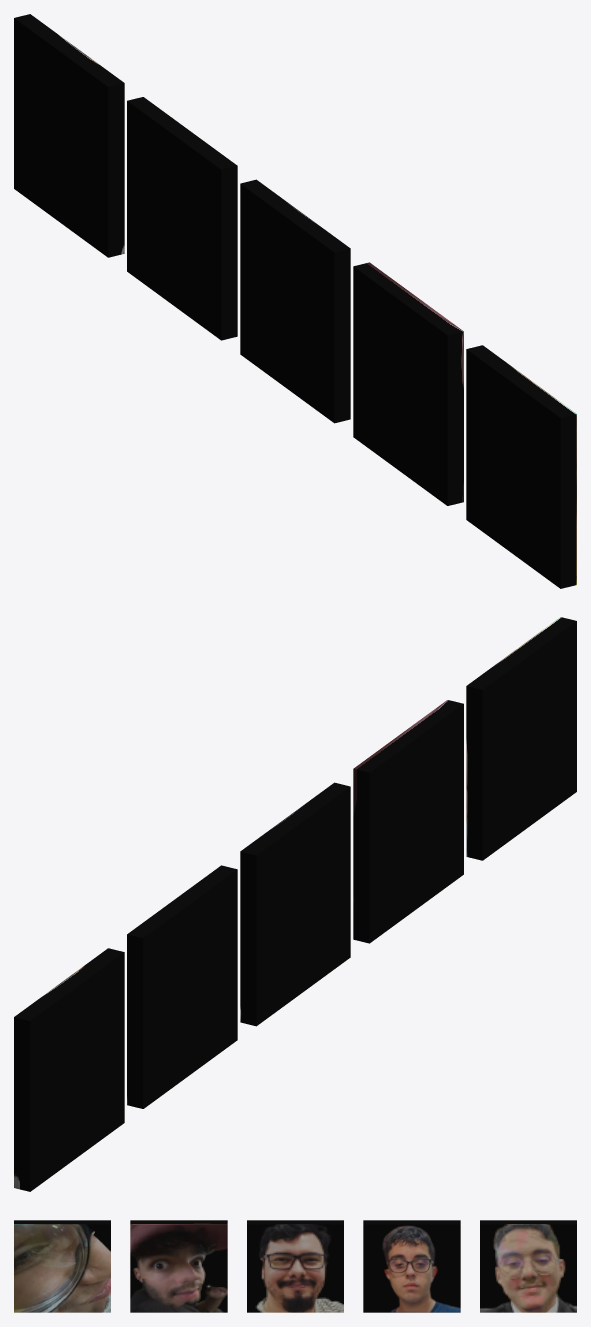
File: quadros.fbx
3 renders of one model, top to bottom at view 1: azimuth 30°, elevation 25°; view 2: azimuth 150°, elevation 25°; view 3: azimuth 270°, elevation 25°, orthographic. The views are drawn at different scales.
Visible parts, largest first — view 1: narak, fabpao, oraso, buseta, caio; view 2: narak, fabpao, oraso, buseta, caio; view 3: fabpao, oraso, buseta, caio, narak.
Boxes of the visible parts, left/top/right/bottom form: narak: left=240, top=179, right=350, bottom=423; fabpao: left=353, top=262, right=463, bottom=505; oraso: left=127, top=97, right=237, bottom=340; buseta: left=466, top=345, right=576, bottom=588; caio: left=14, top=14, right=124, bottom=257; narak: left=240, top=782, right=350, bottom=1026; fabpao: left=353, top=700, right=463, bottom=943; oraso: left=127, top=865, right=237, bottom=1108; buseta: left=466, top=617, right=576, bottom=860; caio: left=14, top=948, right=124, bottom=1191; fabpao: left=130, top=1220, right=227, bottom=1312; oraso: left=363, top=1220, right=460, bottom=1312; buseta: left=14, top=1220, right=110, bottom=1312; caio: left=480, top=1220, right=576, bottom=1312; narak: left=247, top=1220, right=343, bottom=1312.
Bounding box in the file's own units: 10 × 100 × 580.
